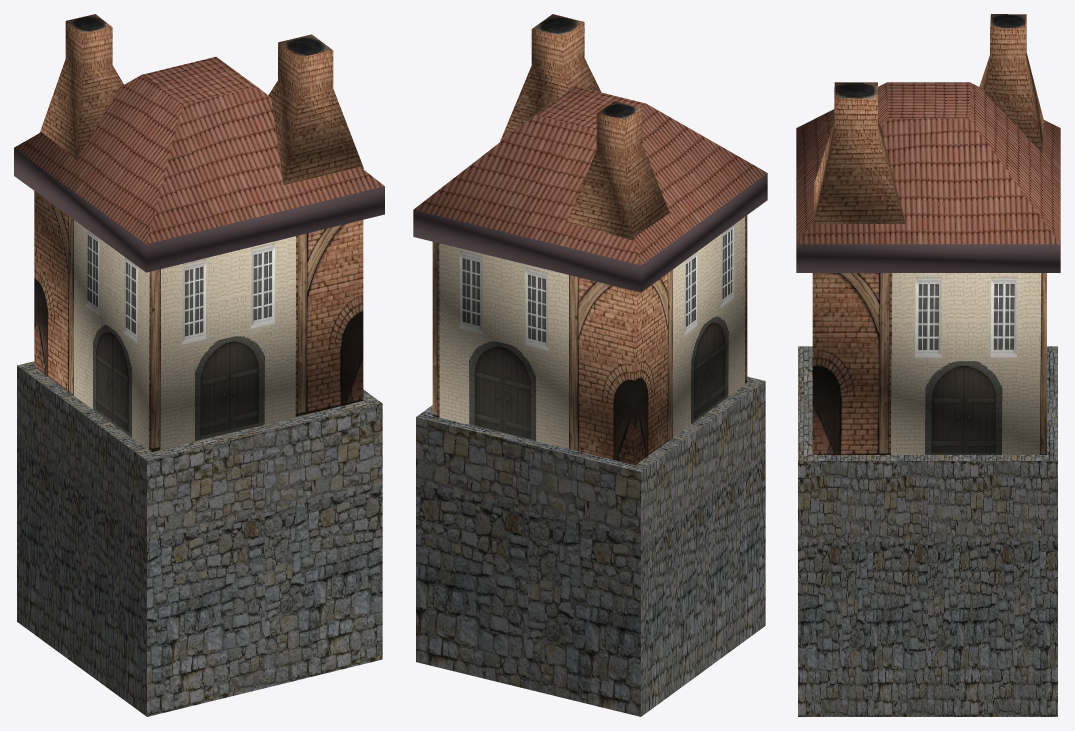
File: tileworks.glb
The picture shows the model from 3 angles, left to right: view 1: azimuth 30°, elevation 25°; view 2: azimuth 150°, elevation 25°; view 3: azimuth 270°, elevation 25°; orthographic projection. The views are drawn at different scales.
Visible parts, largest first — view 1: Cube.002, Cube, Cube.001, Cube.004; view 2: Cube.002, Cube, Cube.001, Cube.004; view 3: Cube.002, Cube, Cube.001, Cube.004.
Part boxes in pixels (x1,y1,x2,y2): Cube.002: [17, 361, 382, 716]; Cube: [34, 191, 363, 452]; Cube.001: [14, 56, 384, 272]; Cube.004: [40, 14, 363, 184]; Cube.002: [416, 376, 765, 716]; Cube: [432, 215, 747, 464]; Cube.001: [413, 86, 767, 292]; Cube.004: [500, 14, 669, 240]; Cube.002: [798, 346, 1057, 716]; Cube: [812, 273, 1046, 454]; Cube.001: [796, 82, 1060, 272]; Cube.004: [813, 14, 1043, 224].
Size of the model in its own units: 1.95 by 4.72 by 1.87.
Materials: 6 (5 with a texture image).
